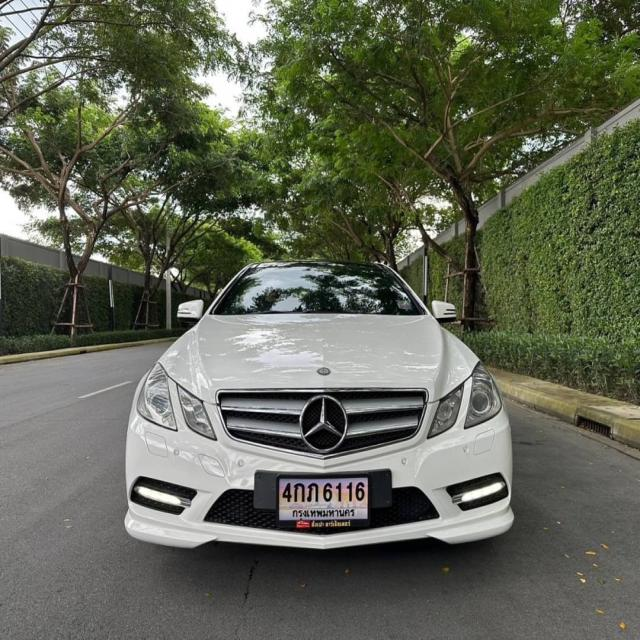license_plate: (277, 471, 372, 528)
